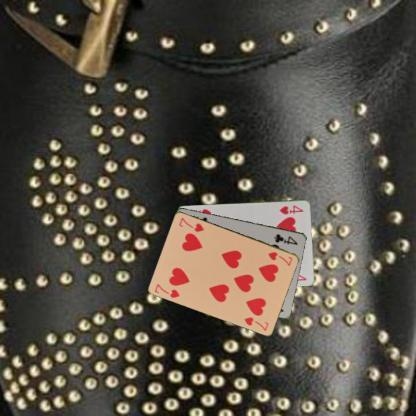4c: (272, 231, 299, 246)
4h: (276, 202, 304, 216)
7h: (152, 281, 182, 299), (266, 249, 294, 267)
